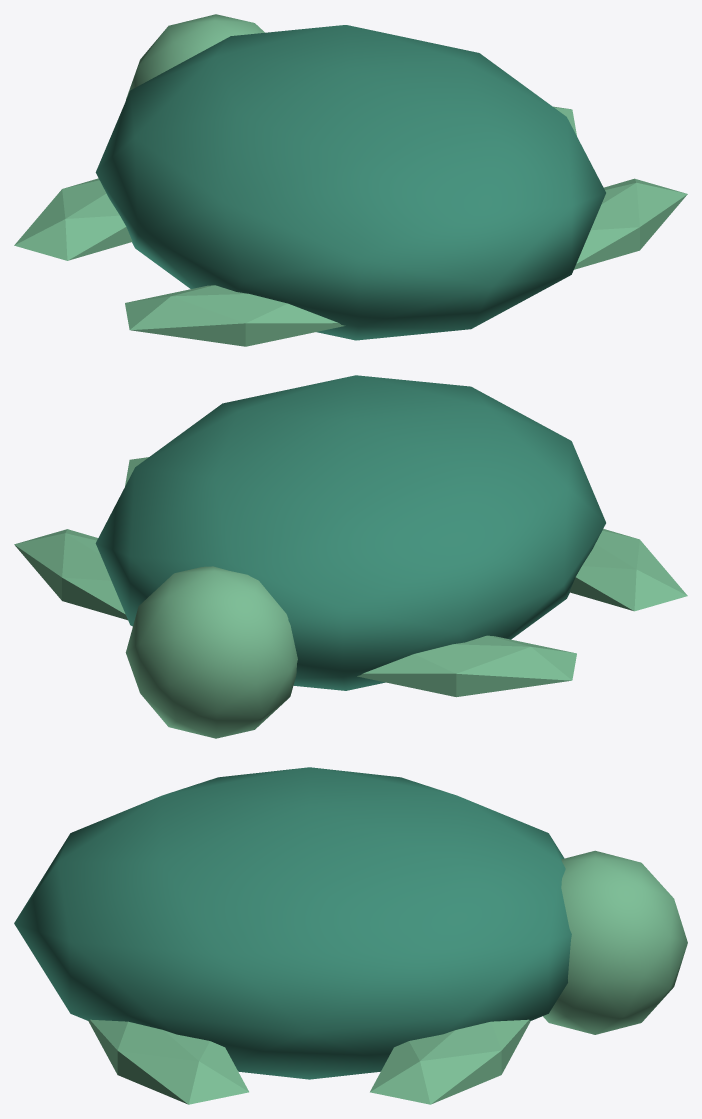
Rendered from discovery-turtle.glb.
3 renders of one model, top to bottom at view 1: azimuth 30°, elevation 25°; view 2: azimuth 150°, elevation 25°; view 3: azimuth 270°, elevation 25°, orthographic. The views are drawn at different scales.
Visible parts, largest first — view 1: turtle-shell, turtle-flipper (×3), turtle-head; view 2: turtle-shell, turtle-head, turtle-flipper (×3); view 3: turtle-shell, turtle-head, turtle-flipper (×2).
Part boxes in pixels (x1,y1,x2,y2): turtle-shell: [95, 25, 605, 340]; turtle-flipper (×3): [14, 178, 687, 346]; turtle-head: [126, 14, 264, 99]; turtle-shell: [95, 375, 605, 690]; turtle-head: [125, 566, 297, 738]; turtle-flipper (×3): [14, 529, 687, 697]; turtle-shell: [14, 767, 571, 1079]; turtle-head: [543, 850, 687, 1034]; turtle-flipper (×2): [88, 1019, 530, 1104].
Size of the model in its own units: 4.72 by 1.8 by 4.72.
